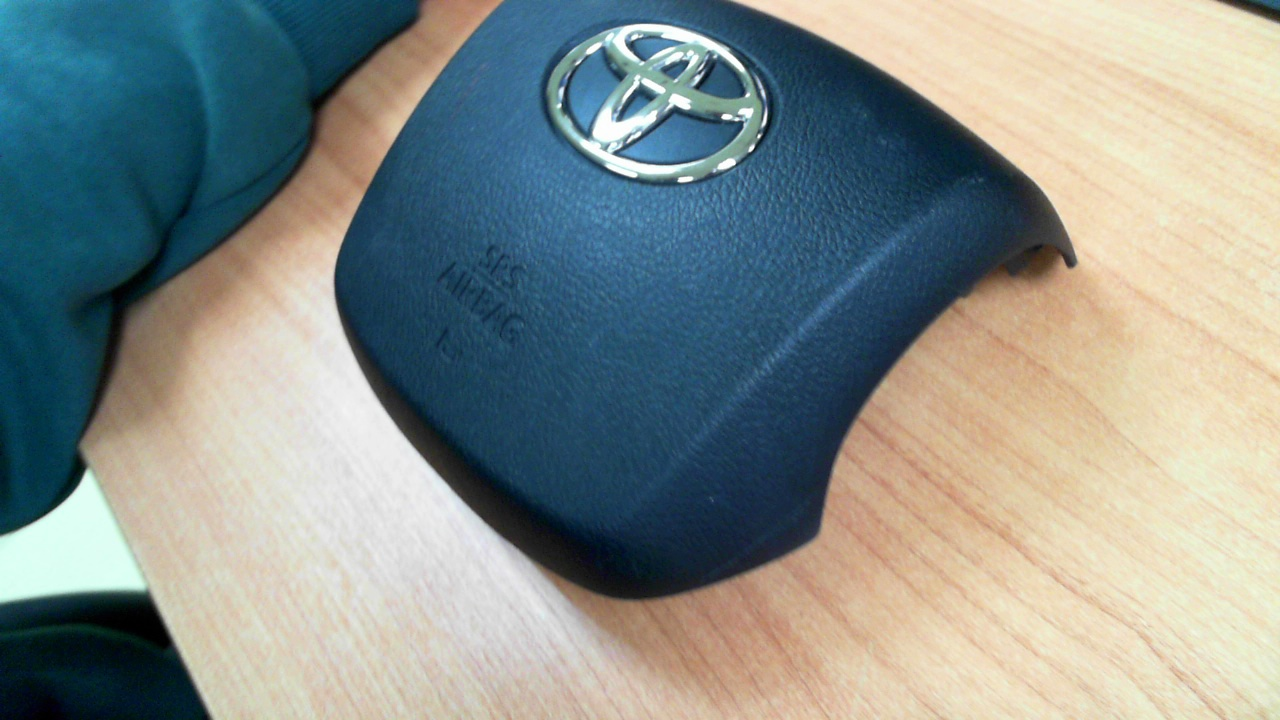Airbag: (335, 0, 1078, 600)
Toyota: (546, 23, 769, 183)
